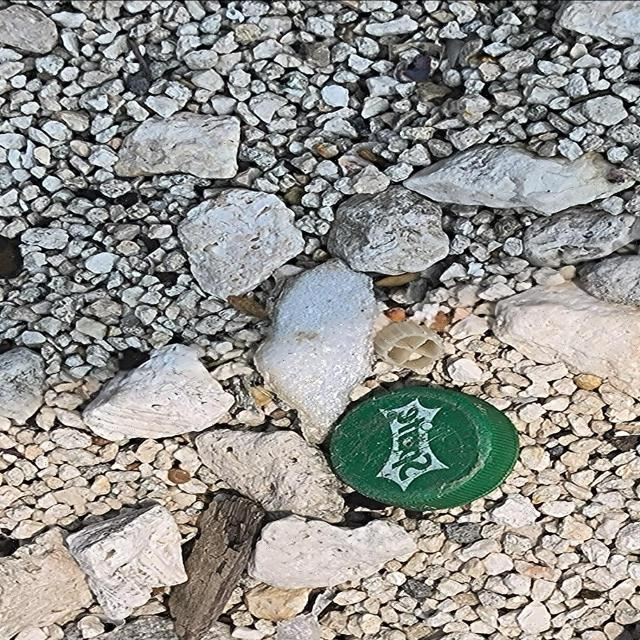plastic_waste: (331, 389, 519, 513)
